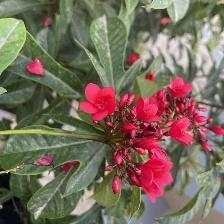jatropha: (79, 81, 123, 124)
